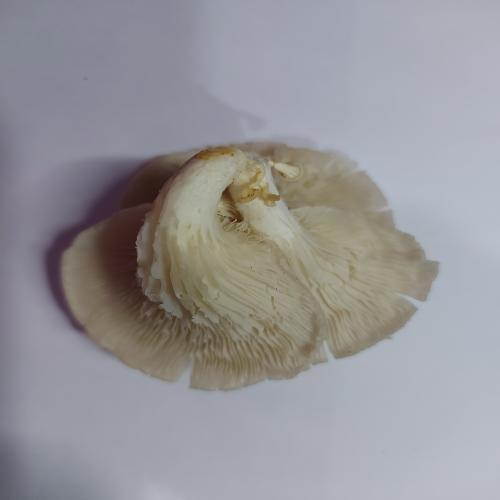Oyster Mushroom: (56, 141, 440, 391)
